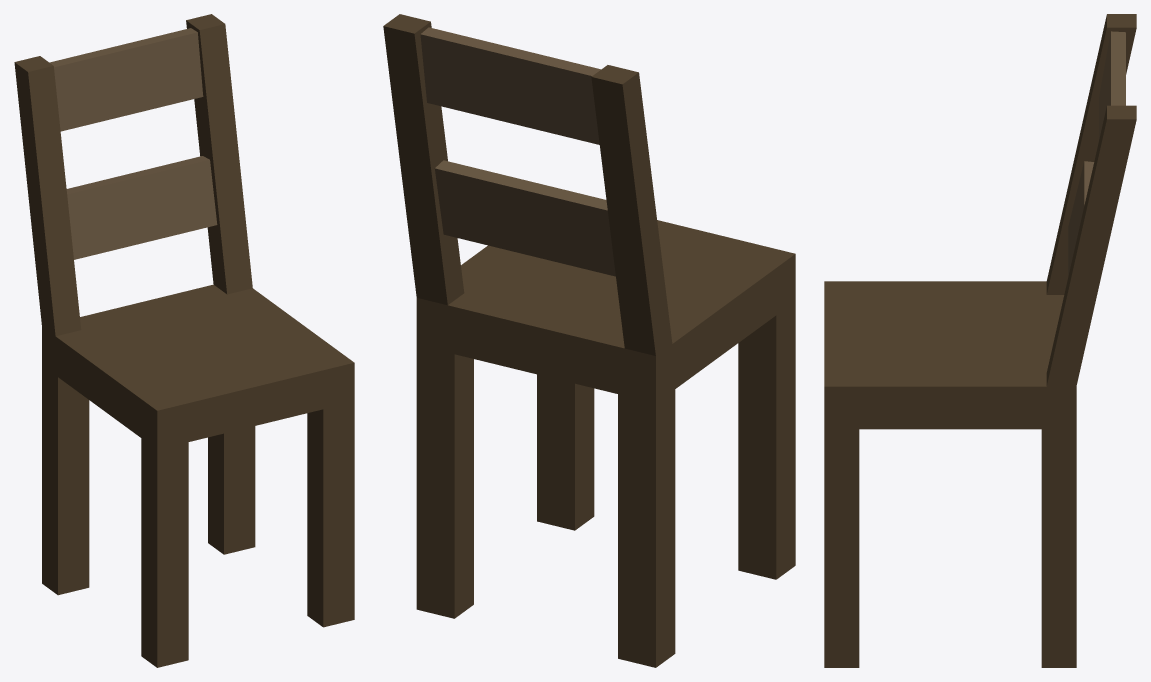
File: Chair.fbx
3 views of the same model, side by side, from view 1: azimuth 30°, elevation 25°; view 2: azimuth 150°, elevation 25°; view 3: azimuth 270°, elevation 25° (orthographic). The views are drawn at different scales.
Visible parts, largest first — view 1: Cube; view 2: Cube; view 3: Cube.
Part boxes in pixels (x1=…): Cube: x1=14, y1=14, x2=354, y2=667; Cube: x1=383, y1=14, x2=795, y2=667; Cube: x1=824, y1=14, x2=1136, y2=667.
Size of the model in its own units: 45.91 by 111 by 57.56.
